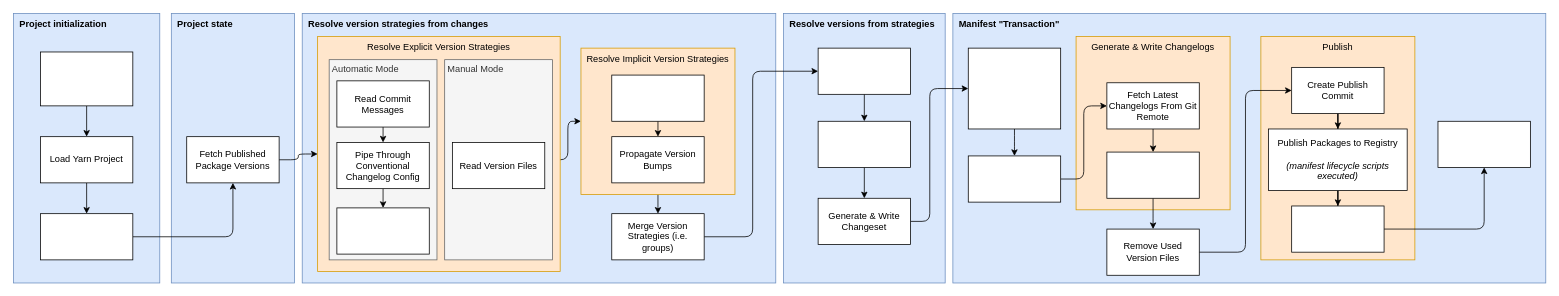
This 1559x296 diagram has some shape labels left out. The shapes that lost their labels are listed below. From the top down, each one's centre as x and y in pixels, then its label:
[86,78]: Load Monoweave Configuration with Defaults
[864,70]: Determine New Versions
[1014,88]: Patch Package Manifests (i.e. update package.json files with new versions)
[657,97]: Determine Dependents
[864,144]: Determine Git Tags
[1483,144]: Plugin: Execute Release Hooks
[1014,178]: Re-install Project
[1152,174]: Update Changelog Files
[86,236]: Initialize Plugins
[382,230]: Version Strategy Determiner
[1337,228]: Push Git Commit & Tags
